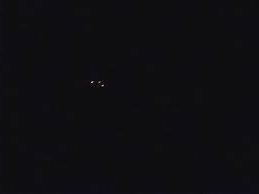Plane: (83, 73, 114, 92)
